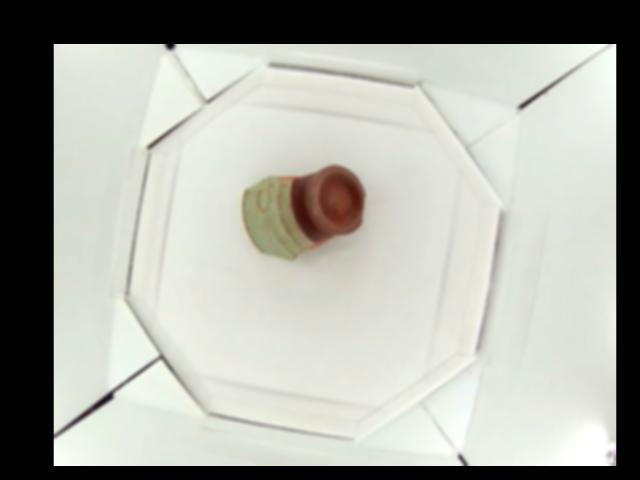China: (240, 163, 365, 262)
